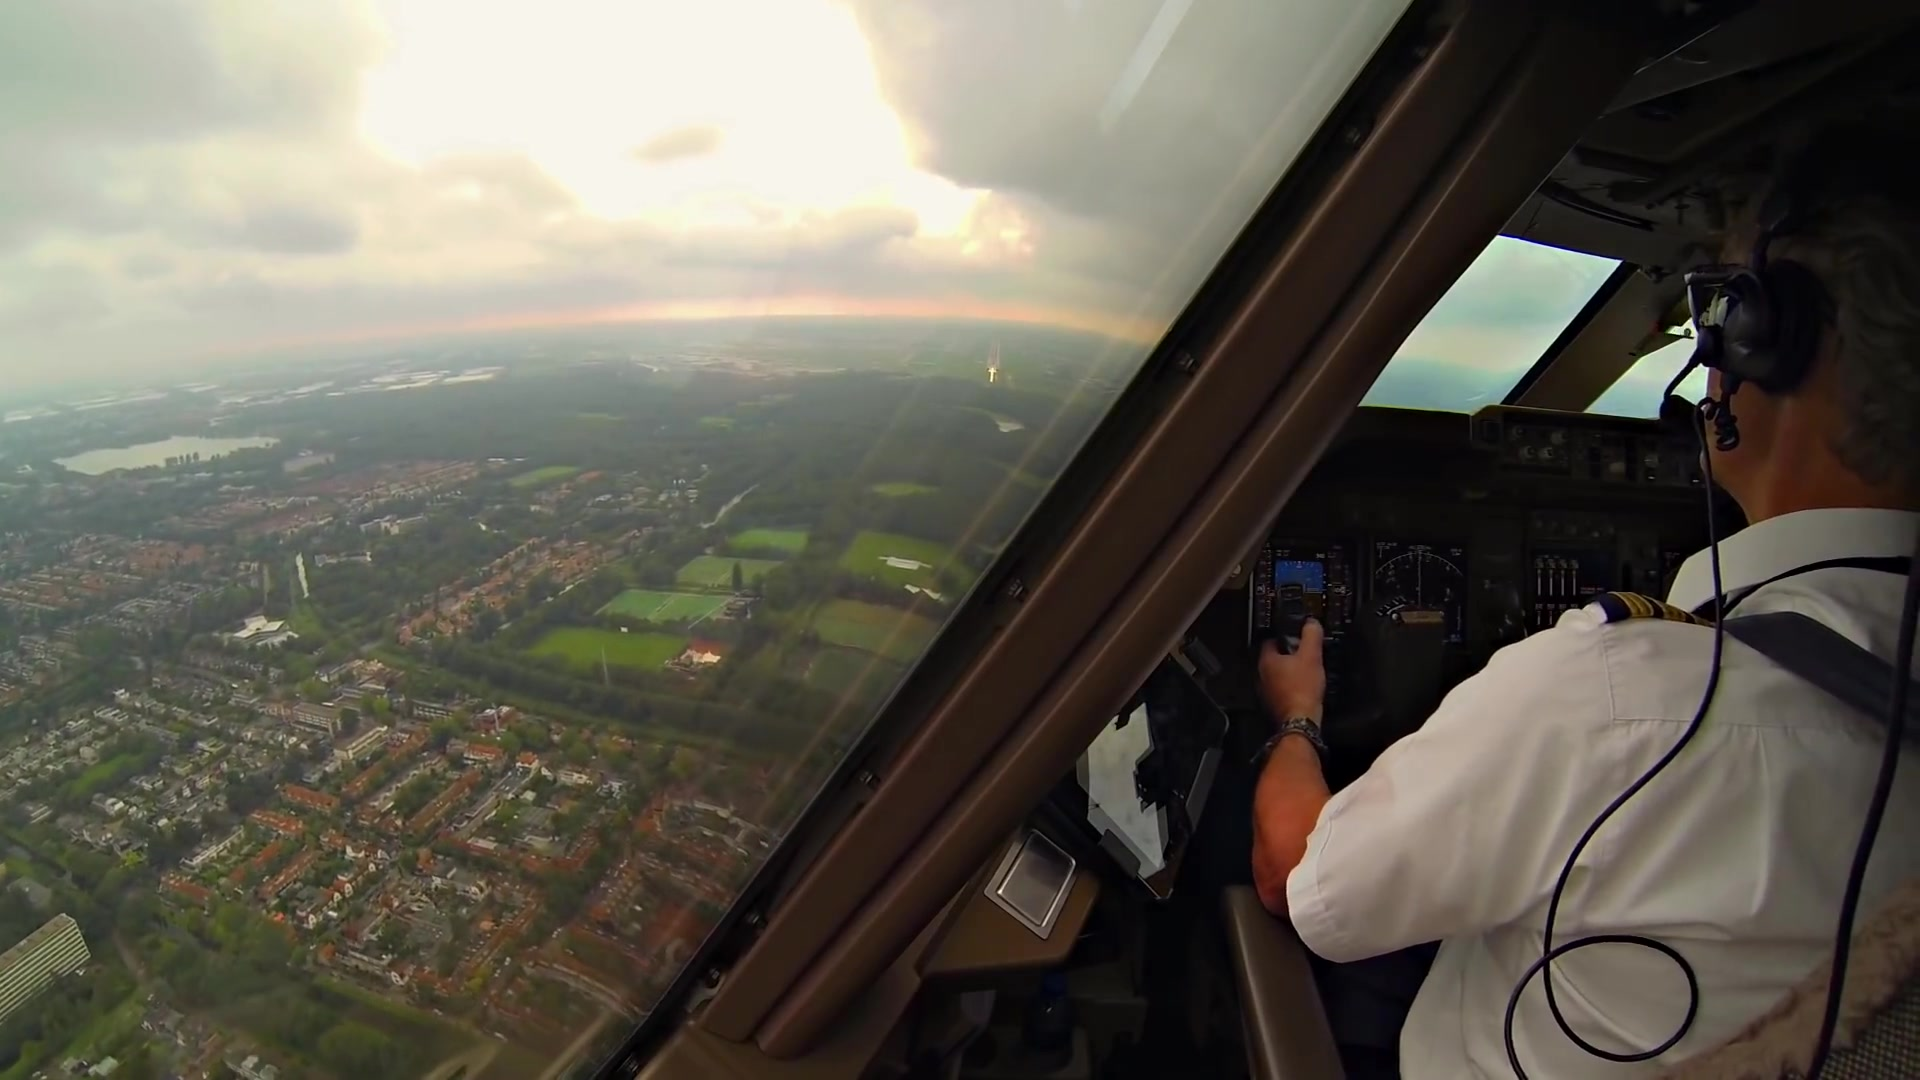runway: (984, 339, 1001, 368)
